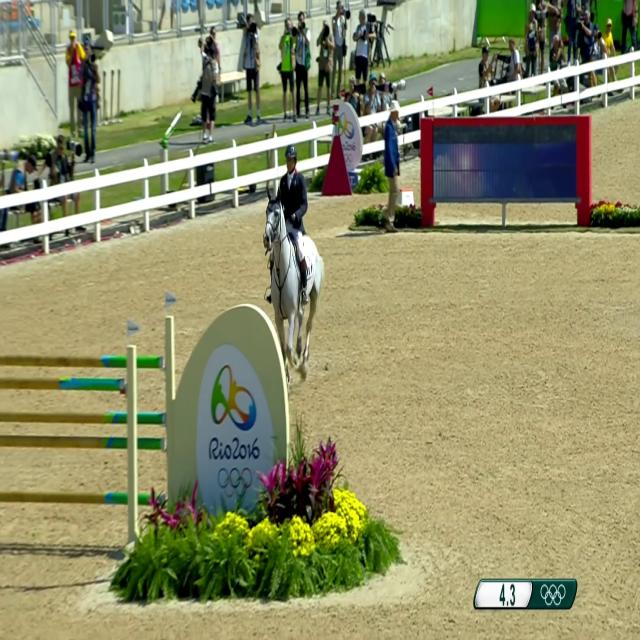Horse Running: (256, 196, 330, 362)
